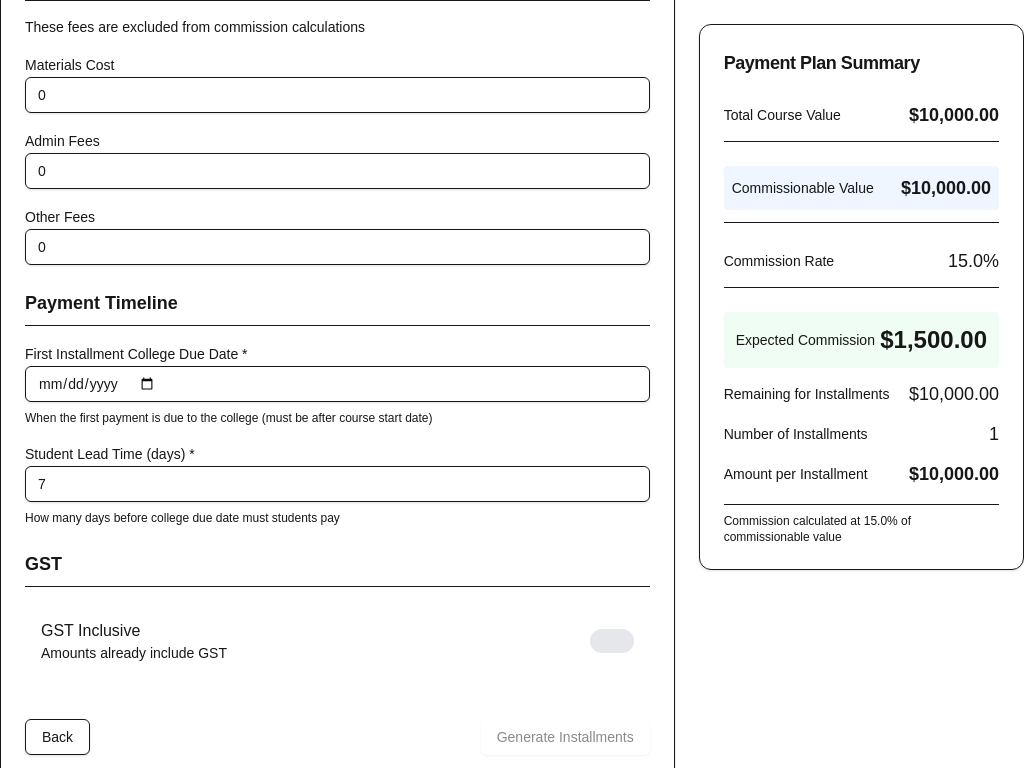
Test: PaymentPlanWizardStep2 › Student Due Date Preview › updates preview when lead time changes
This screenshot has width=1024, height=768.
(page scrolled)
Note: Set first college due date
Type "2025-03-15" into the date field labelled "First Installment College Due Date *".
click(337, 384); type("2025-03-15")  # box [25,366,650,402]
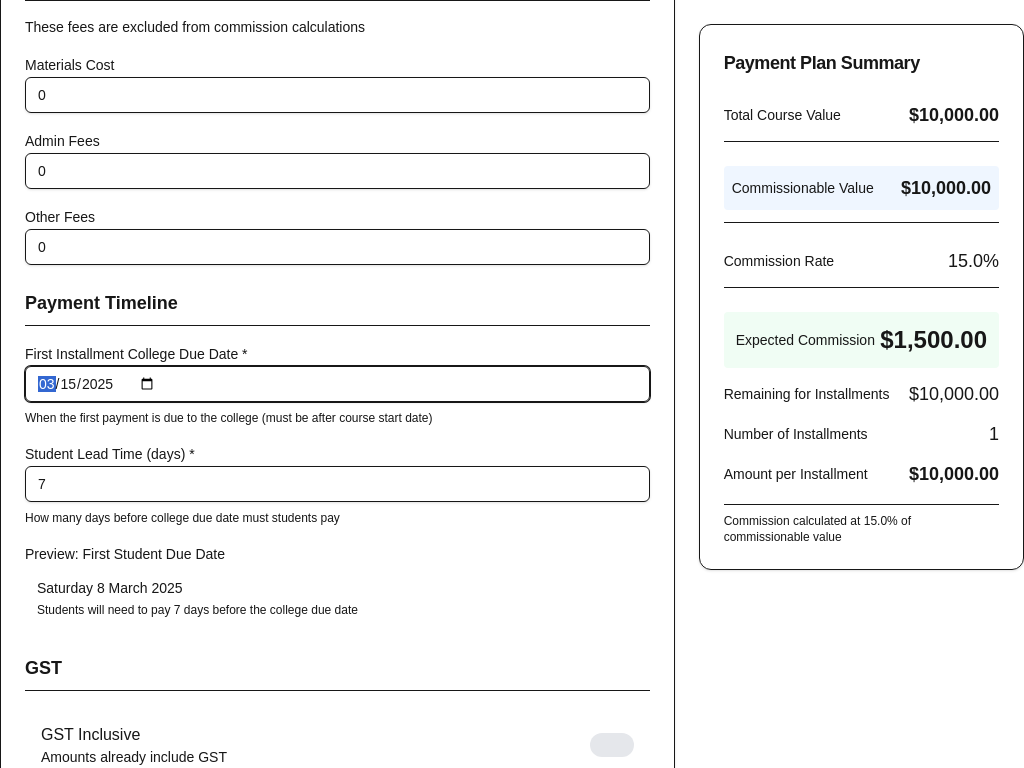
Note: Change lead time
Replace the text in the number field labelled "Student Lead Time (days) *" with "14" at x=337, y=484, box [25,466,650,502]
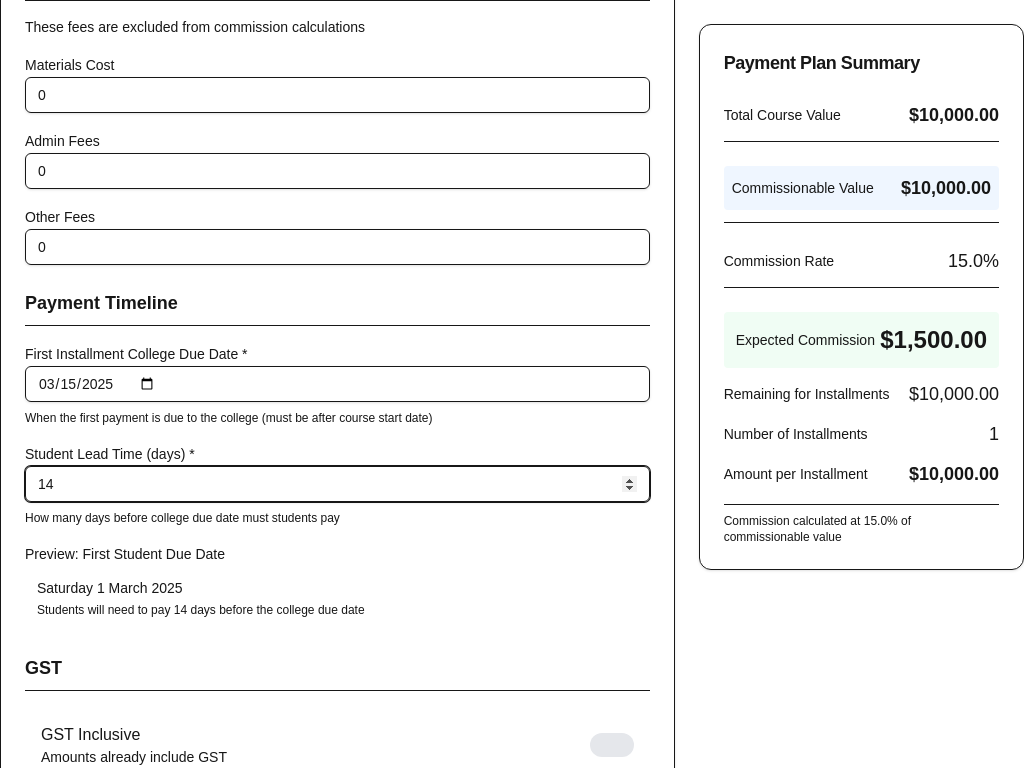
Now the text "14 days before" is shown, box [37,603,365,617]
